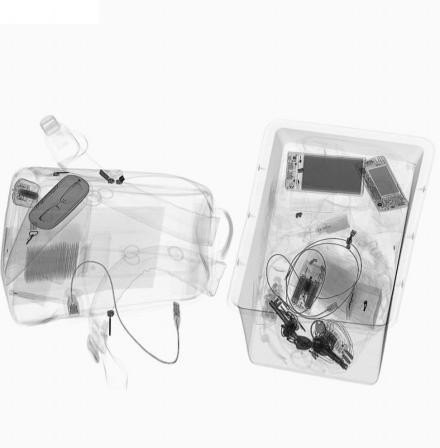Powerbank: (284, 152, 366, 196)
